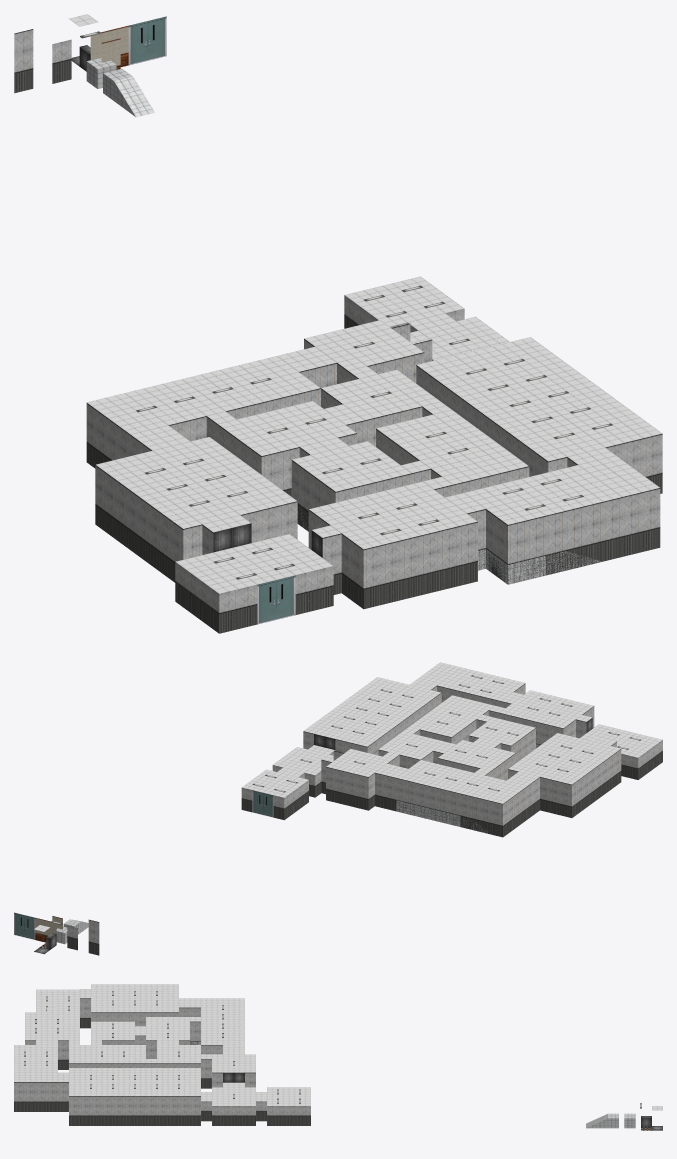
File: bvj-3-level-6.glb
The picture shows the model from 3 angles, top to bottom: view 1: azimuth 30°, elevation 25°; view 2: azimuth 150°, elevation 25°; view 3: azimuth 270°, elevation 25°; orthographic projection. The views are drawn at different scales.
Parts seen in each view (by area): view 1: door-double.002, door-double, panel-white-ramp-1x3, wall-panel-3x1.144, wall-panel-3x1, wall-panel-3x1.143, wall-panel-3x1.163, wall-panel-3x1.166, wall-panel-3x1.148, wall-panel-3x1.160, wall-panel-3x1.167, wall-panel-3x1.145 (+7 smaller); view 2: door-double.001, door-double; view 3: panel-white-ramp-1x3, wall-panel-3x1.142, wall-panel-3x1.006, wall-panel-3x1.007, wall-panel-3x1.008, wall-panel-3x1.009, wall-panel-3x1.010, wall-panel-3x1.011, wall-panel-3x1.012, wall-panel-3x1.013, wall-panel-3x1.005, wall-panel-3x1.014 (+9 smaller).
Boxes of the visible parts, bbox=[...] form: door-double.002: bbox=[257, 575, 295, 624]; door-double: bbox=[128, 16, 166, 65]; panel-white-ramp-1x3: bbox=[103, 68, 154, 117]; wall-panel-3x1.144: bbox=[382, 540, 401, 604]; wall-panel-3x1: bbox=[14, 29, 33, 93]; wall-panel-3x1.143: bbox=[401, 535, 420, 599]; wall-panel-3x1.163: bbox=[603, 497, 622, 561]; wall-panel-3x1.166: bbox=[641, 488, 660, 552]; wall-panel-3x1.148: bbox=[420, 531, 439, 595]; wall-panel-3x1.160: bbox=[546, 511, 565, 575]; wall-panel-3x1.167: bbox=[622, 492, 641, 556]; wall-panel-3x1.145: bbox=[363, 545, 382, 608]; door-double.001: bbox=[252, 790, 273, 817]; door-double: bbox=[14, 912, 35, 939]; panel-white-ramp-1x3: bbox=[586, 1113, 618, 1128]; wall-panel-3x1.142: bbox=[80, 998, 90, 1028]; wall-panel-3x1.006: bbox=[190, 1096, 200, 1125]; wall-panel-3x1.007: bbox=[179, 1096, 189, 1125]; wall-panel-3x1.008: bbox=[168, 1096, 178, 1125]; wall-panel-3x1.009: bbox=[157, 1096, 167, 1125]; wall-panel-3x1.010: bbox=[146, 1096, 156, 1125]; wall-panel-3x1.011: bbox=[135, 1096, 145, 1125]; wall-panel-3x1.012: bbox=[124, 1096, 134, 1125]; wall-panel-3x1.013: bbox=[113, 1096, 123, 1125]; wall-panel-3x1.005: bbox=[102, 1096, 112, 1125]; wall-panel-3x1.014: bbox=[91, 1096, 101, 1125].
Bounding box in the file's own units: 29 × 3.52 × 59.
Materials: 9 (9 with a texture image).
